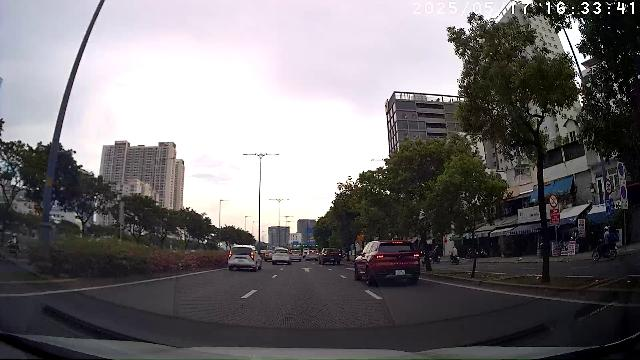127-toc-do-toi-da-50: (604, 179, 613, 195)
